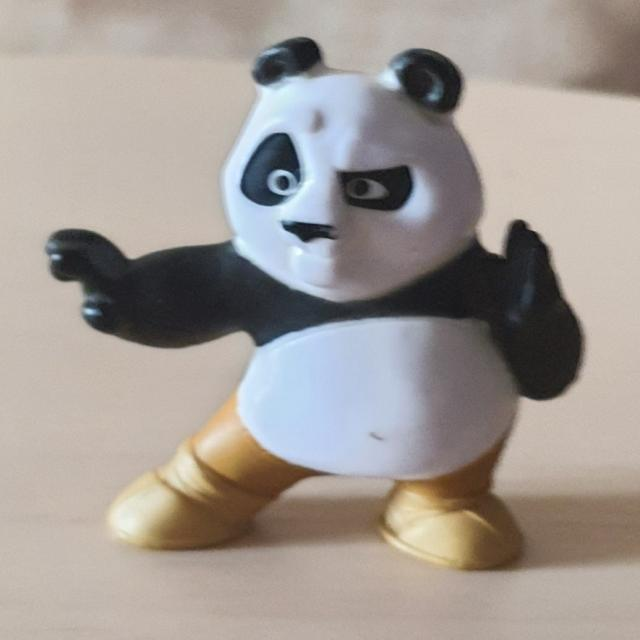Panda: (44, 35, 586, 571)
